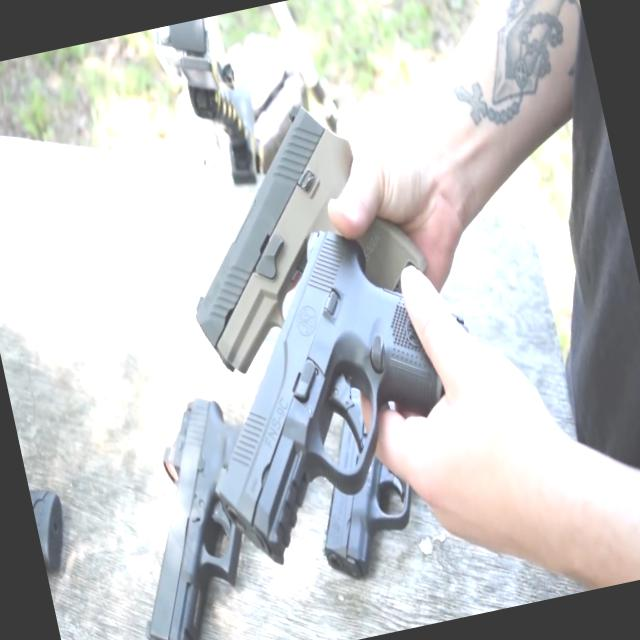handgun: (161, 179, 510, 558), (133, 74, 467, 431), (87, 373, 316, 639), (270, 329, 500, 591)
